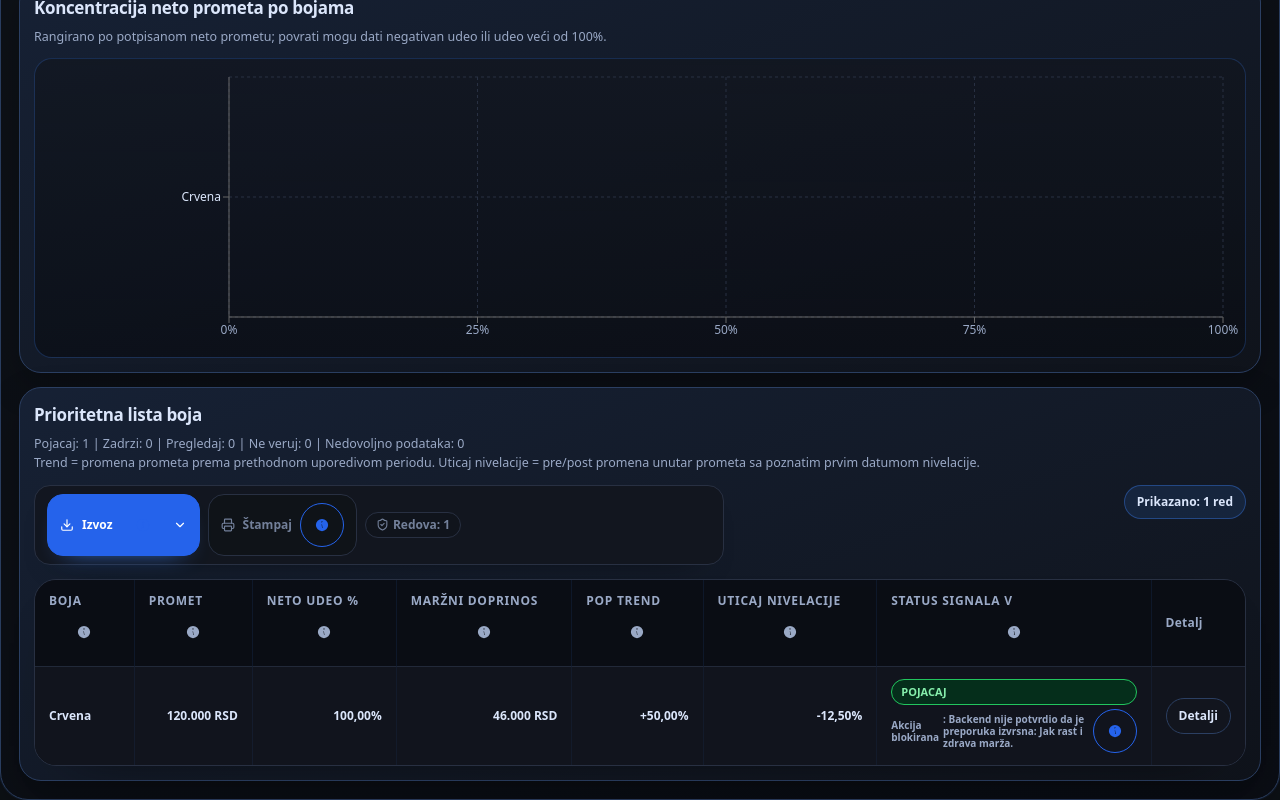
ColorSalesStatsPage premium controls › keeps valid zero and 100 percentages visible across surfaces
(page scrolled)
Expected: the row that starts with "Crvena" is shown, [35,666,1245,765]
Expected: the row that starts with "Crvena" shows "100,00%", [333,707,382,724]
Click the button "Detalji": (1198, 716) [1166,698,1231,734]
(page scrolled)
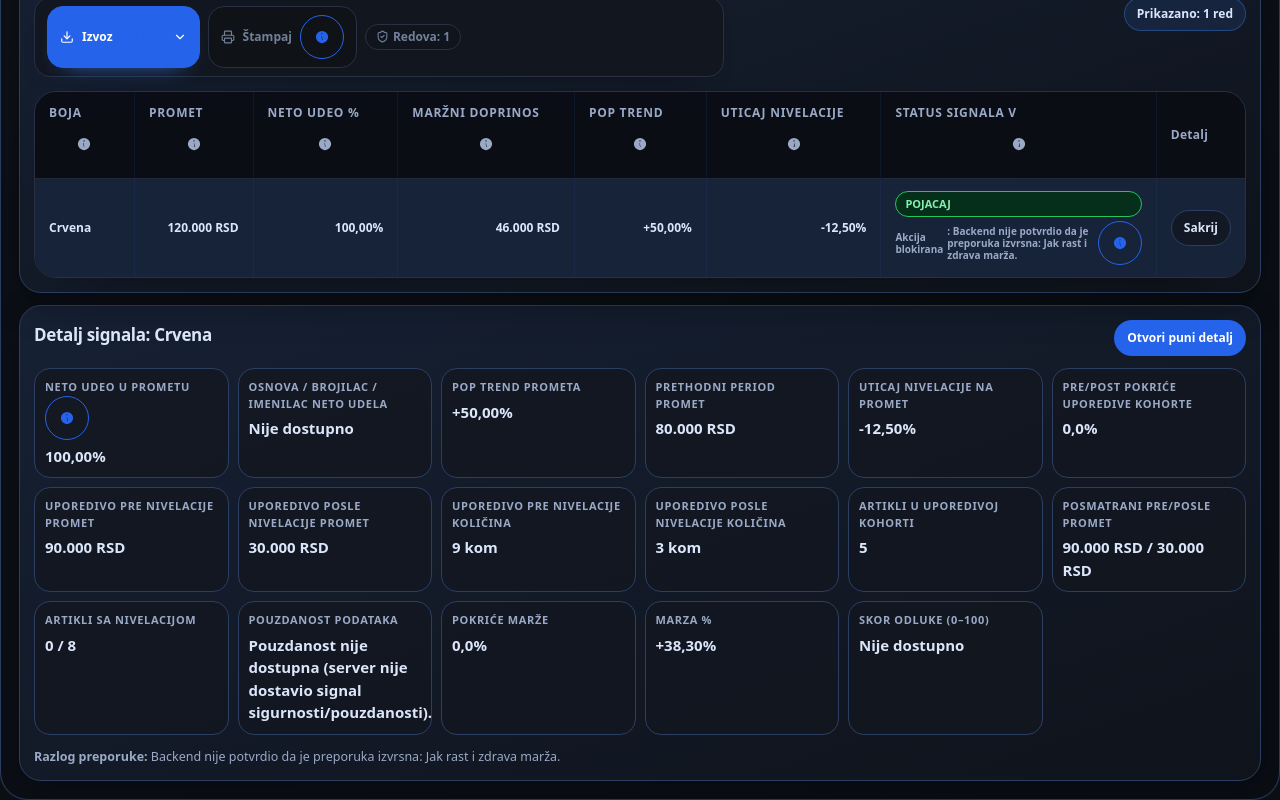
Result: the element "Detalj signala: Crvena" is shown at [19,305,1261,781]
